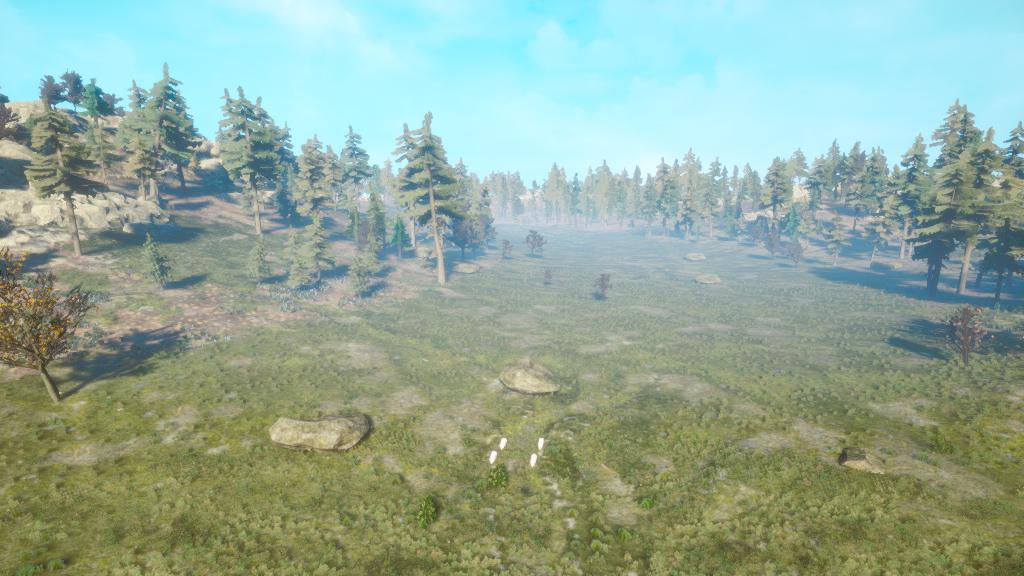pig: (491, 430, 519, 455), (523, 449, 544, 474), (533, 431, 552, 457), (487, 448, 501, 469)
